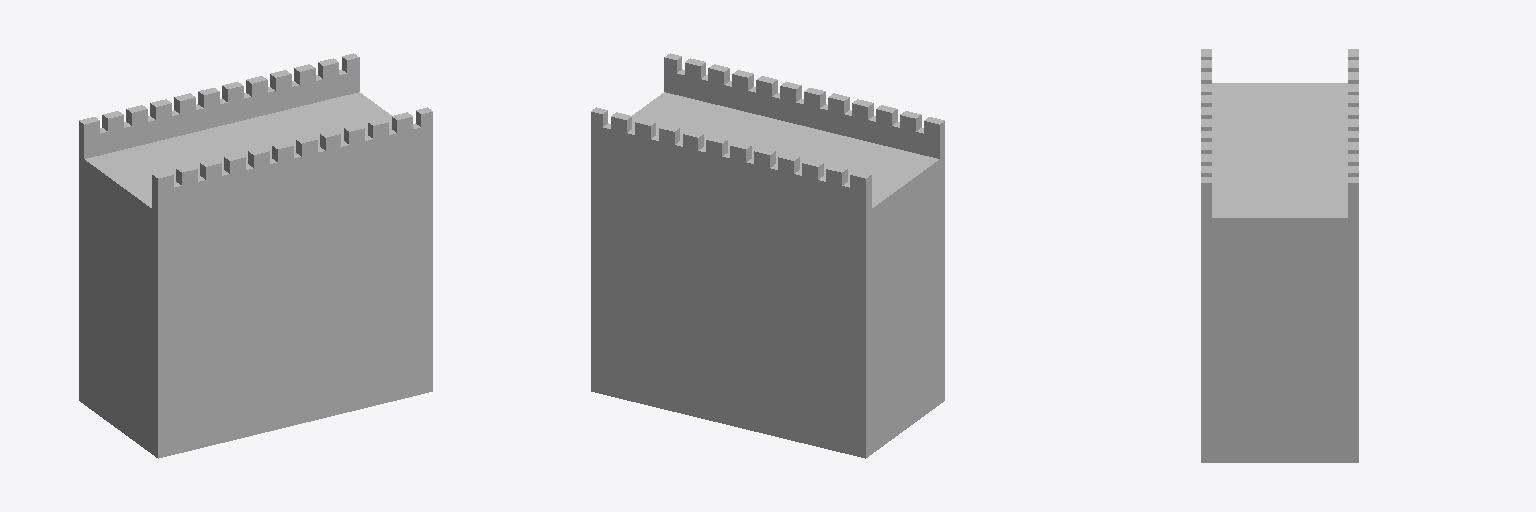
The model's file is piece3.obj.
3 renders of one model, left to right at view 1: azimuth 30°, elevation 25°; view 2: azimuth 150°, elevation 25°; view 3: azimuth 270°, elevation 25°, orthographic.
Parts seen in each view (by area): view 1: Mesh1 Group1 Model; view 2: Mesh1 Group1 Model; view 3: Mesh1 Group1 Model.
Part boxes in pixels (left/top/right/bottom): Mesh1 Group1 Model: left=79, top=53, right=432, bottom=458; Mesh1 Group1 Model: left=591, top=53, right=944, bottom=458; Mesh1 Group1 Model: left=1201, top=49, right=1358, bottom=462.
Size of the model in its own units: 6 by 5.83 by 3.